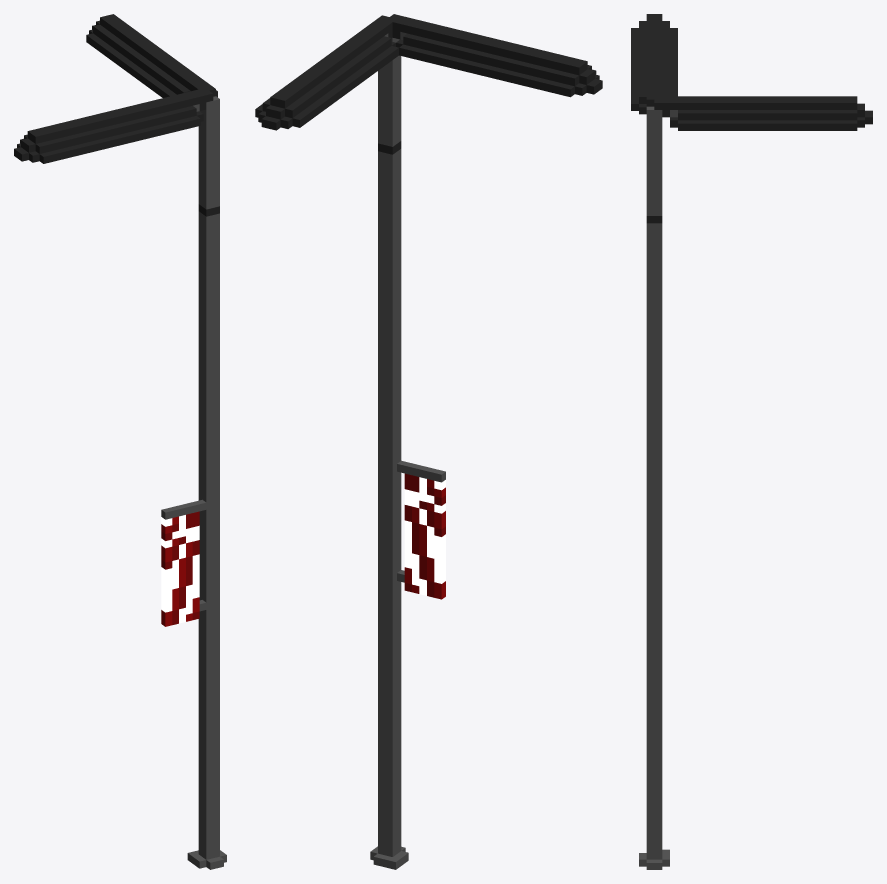
File: lampFour.glb
3 renders of one model, left to right at view 1: azimuth 30°, elevation 25°; view 2: azimuth 150°, elevation 25°; view 3: azimuth 270°, elevation 25°, orthographic. The views are drawn at different scales.
Visible parts, largest first — view 1: ObjObject; view 2: ObjObject; view 3: ObjObject.
Part boxes in pixels (x1=…): ObjObject: x1=14, y1=14, x2=226, y2=869; ObjObject: x1=255, y1=14, x2=602, y2=869; ObjObject: x1=631, y1=14, x2=872, y2=869.
Bounding box in the file's own units: 3.1 × 10.8 × 3.1.
Materials: 2 (1 with a texture image).
